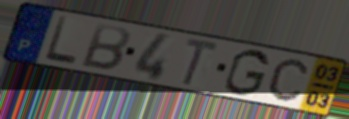4: (133, 30, 169, 83)
B: (77, 21, 132, 73)
C: (266, 57, 310, 104)
G: (221, 48, 272, 98)
L: (41, 14, 78, 68)
T: (179, 35, 222, 88)
